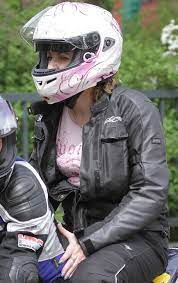helmets: (19, 0, 131, 107)
